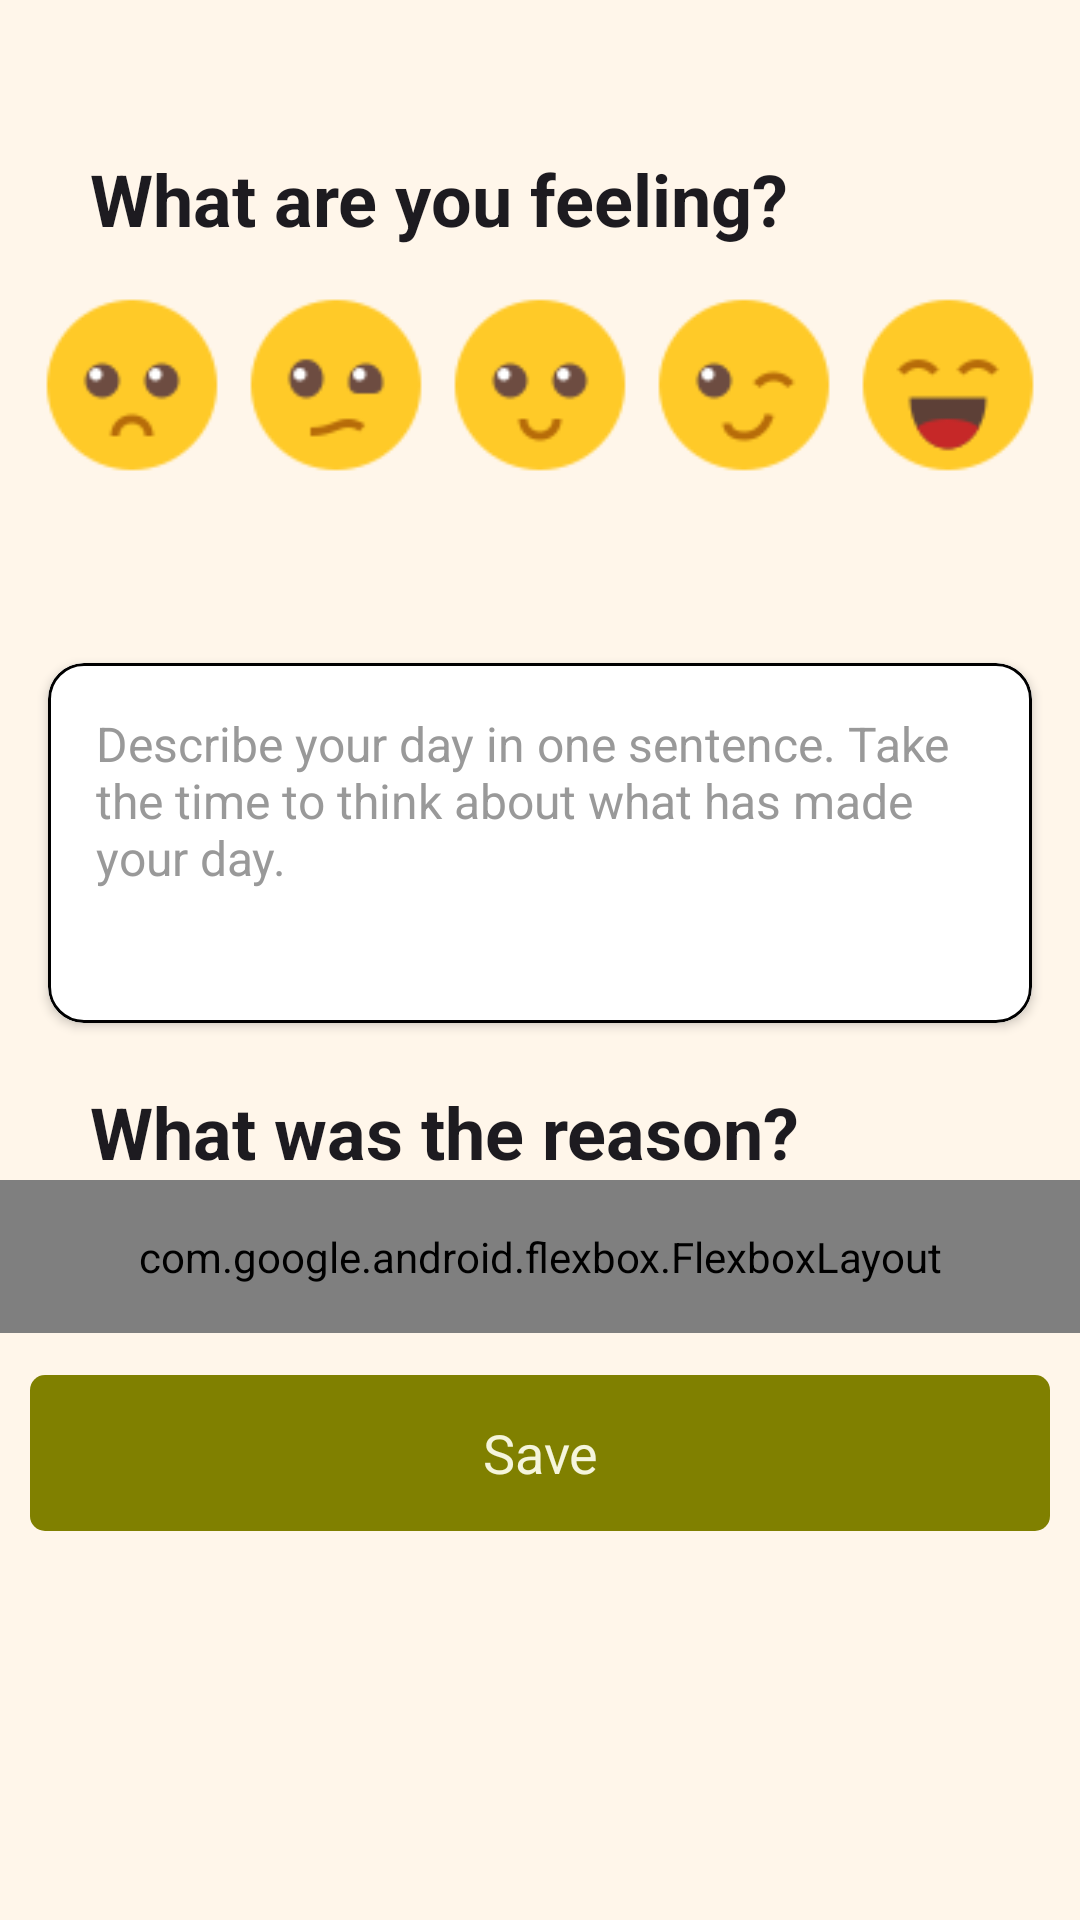

Icons on this 1080w x 1920h Android screen, each with the point to tap as point (x, y):
happy: point (744, 385)
smile: point (540, 385)
very happy: point (948, 385)
very sad: point (132, 385)
